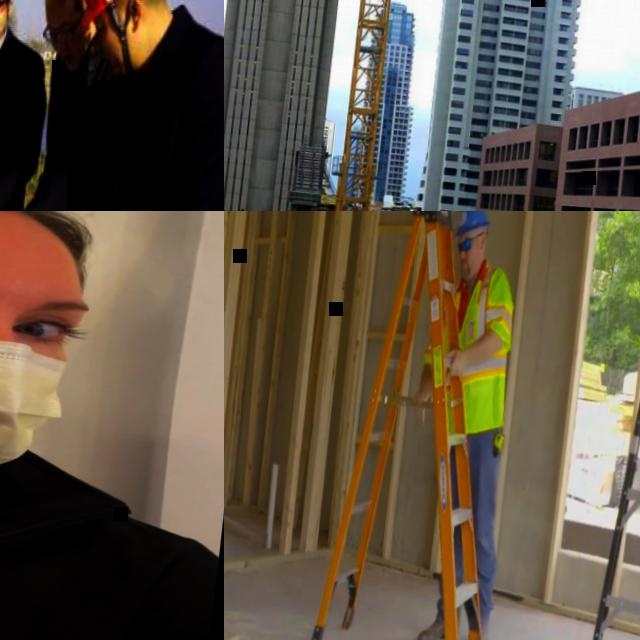Hardhat: (73, 0, 171, 41), (455, 211, 491, 237)
Mask: (0, 280, 77, 489)
NO-Mask: (98, 33, 138, 76), (56, 35, 88, 74), (460, 246, 483, 278)
NO-Safety Vest: (0, 444, 186, 640), (75, 22, 224, 211), (47, 68, 99, 211), (0, 40, 32, 211)
Person: (0, 211, 224, 640), (408, 211, 538, 640), (33, 0, 224, 211), (0, 0, 127, 211), (0, 0, 64, 211)
Safety Vest: (421, 255, 519, 390)
